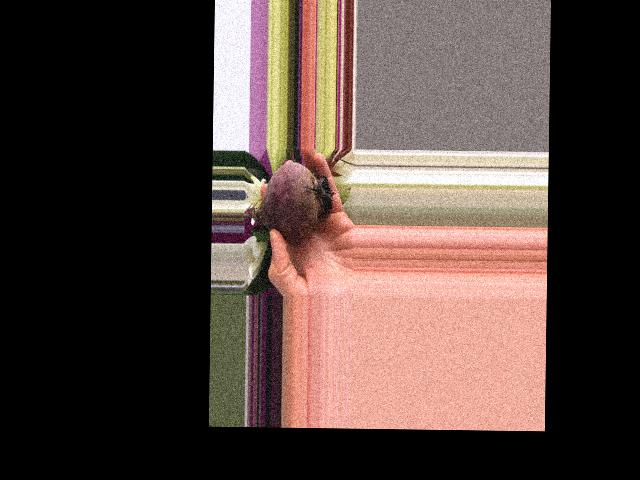beet: (243, 160, 335, 241)
